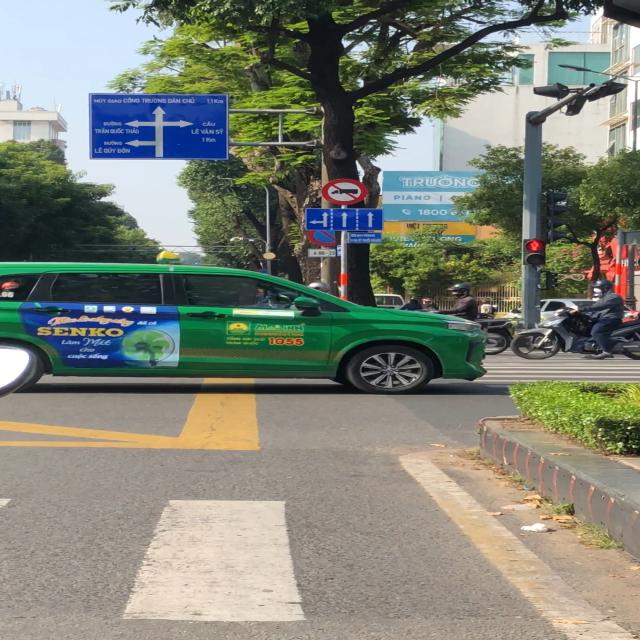Bien bao cam xe so-mi ro-mooc: (319, 176, 369, 205)
